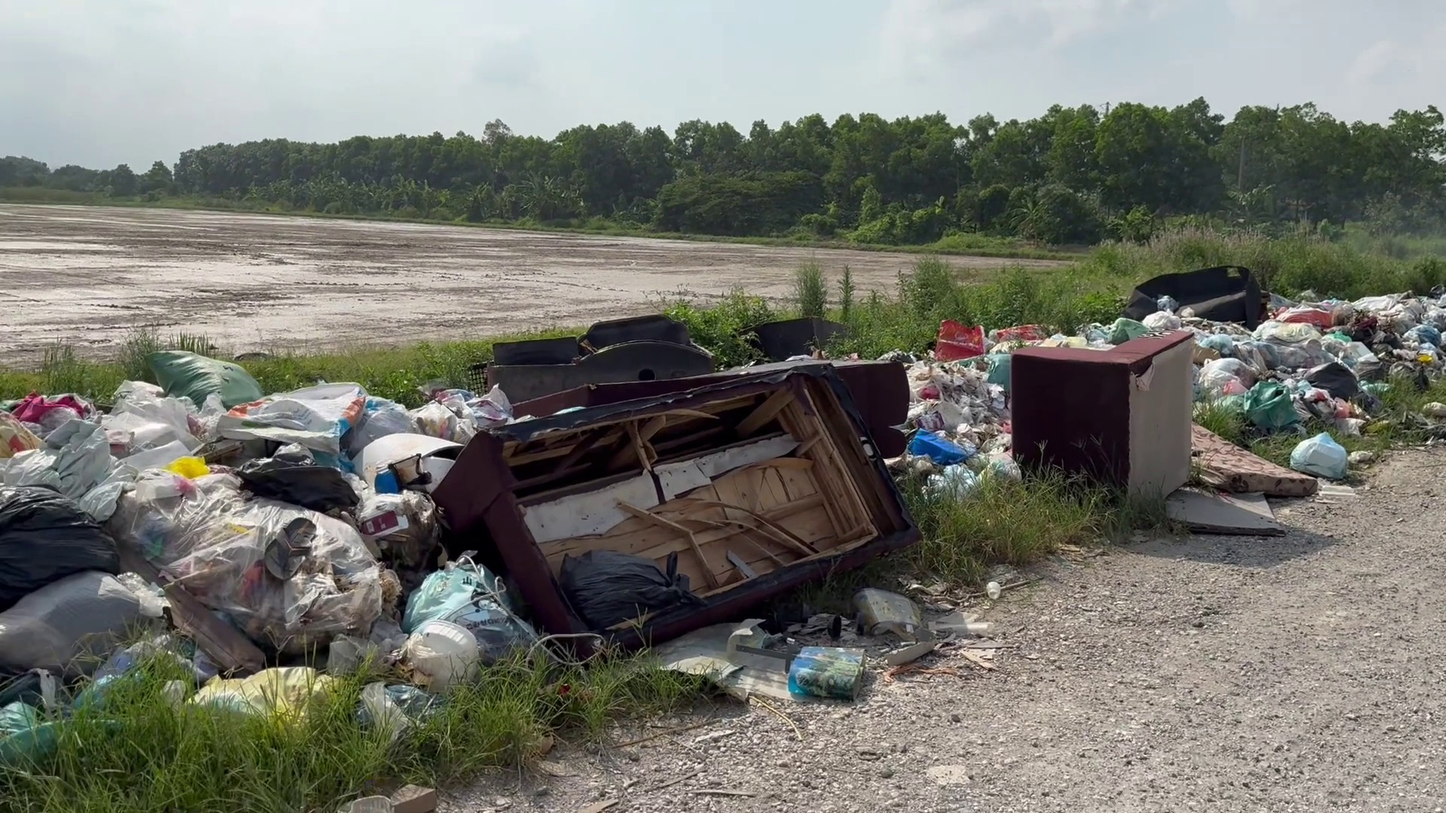garbage: (762, 596, 870, 642)
